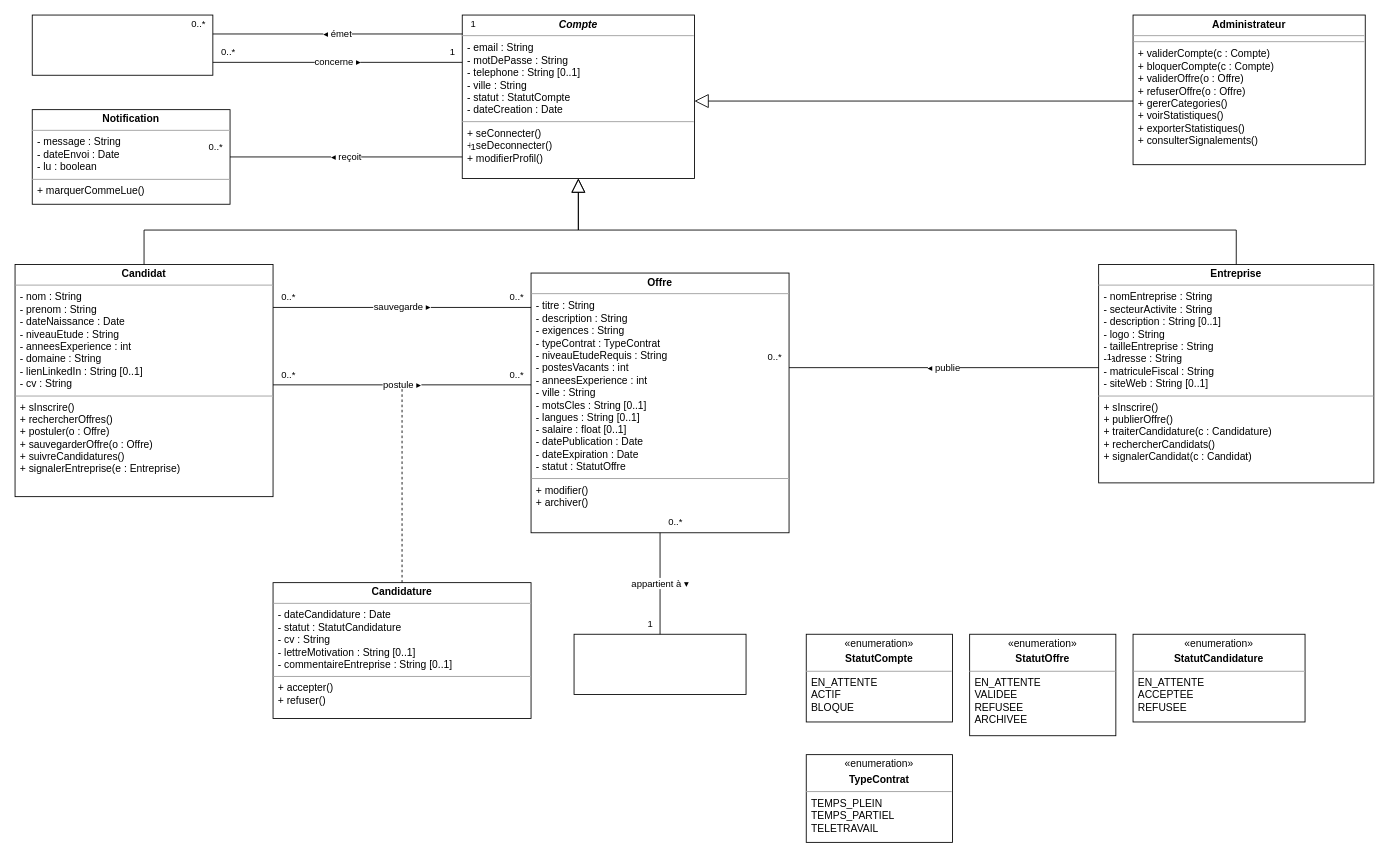
This 1389x857 diagram has some shape labels left out. Here are the shapes that lost their labels. From the top down, the centre of each, then its label:
At point (122, 44): "Signalement - motif : String - dateSignalement : Date".
At point (659, 663): "Categorie - nom : String - image : String".
